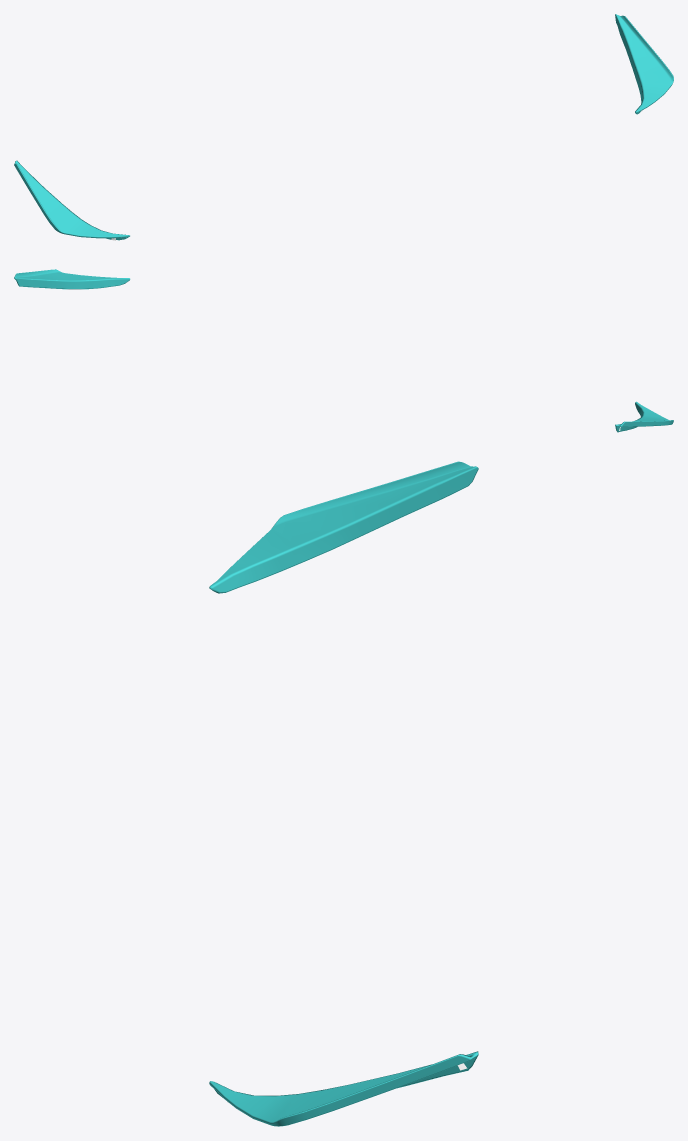
The model's file is Car_Nissan_SkylineGTRVspecR34_1999_CanardsF_SetCC.fbx.
3 views of the same model, one above another, from view 1: azimuth 30°, elevation 25°; view 2: azimuth 150°, elevation 25°; view 3: azimuth 270°, elevation 25° (orthographic). The views are drawn at different scales.
Parts seen in each view (by area): view 1: CanardsF 6; view 2: CanardsF 6; view 3: CanardsF 6.
Part boxes in pixels (x1,y1,x2,y2): CanardsF 6: (14,14,673,240); CanardsF 6: (14,269,673,432); CanardsF 6: (209,461,478,1126).
Bounding box in the file's own units: 1.73 × 0.1187 × 0.3258.
